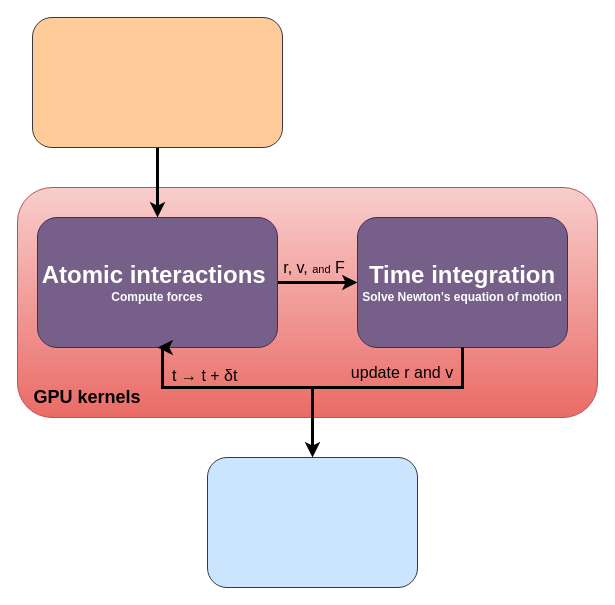
Some shapes in this 615 by 605 pixel diagram are drawn without their labels. The shapes that lost their labels are listed below. From the top down, each one's centre as x and y in pixels, then its label:
At point (157, 82): "System initialization Parameters and particles".
At point (312, 522): "Data collection Configurations, temperature, etc.".
